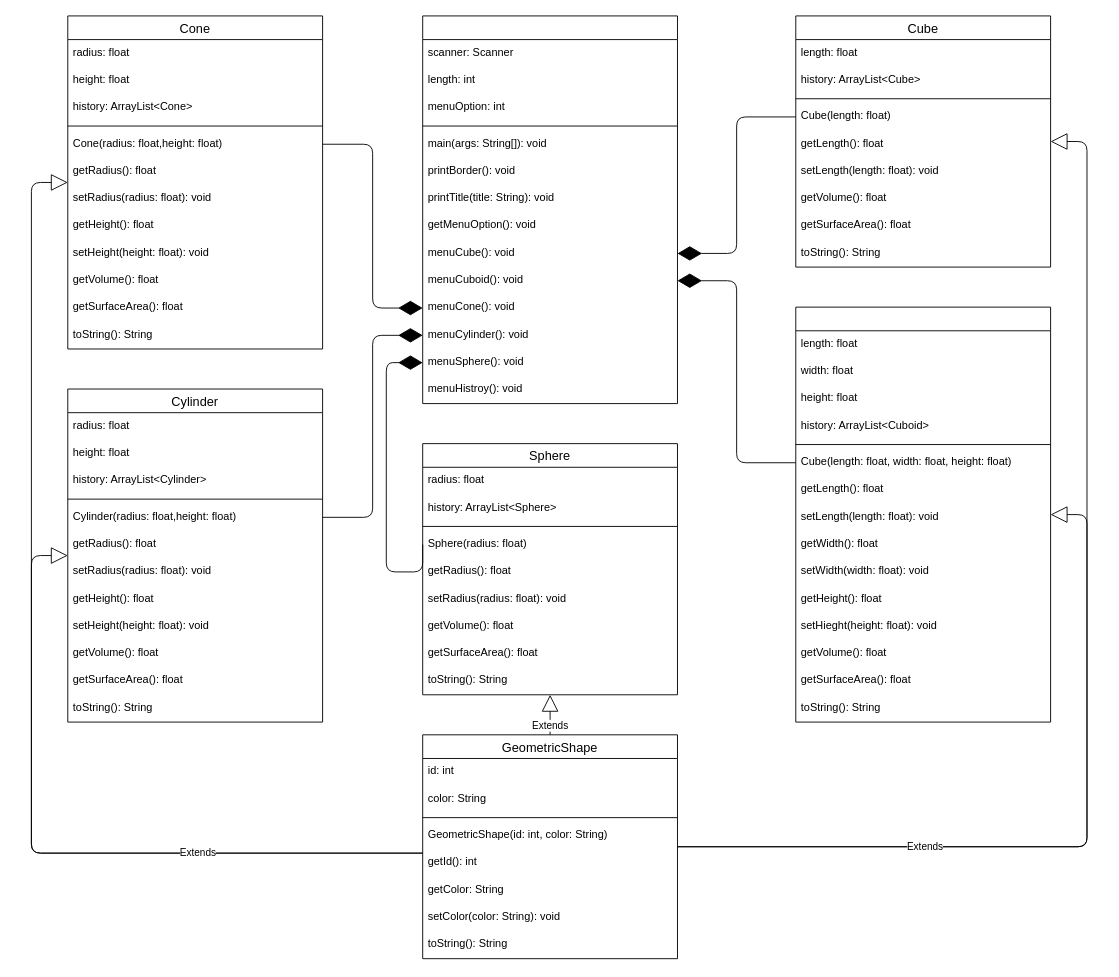
Some shapes in this 1119 by 977 pixel diagram are drawn without their labels. Here are the shapes that lost their labels. From the top down, the box of each, then its label:
(422, 15, 677, 404): App
(795, 306, 1051, 722): Cuboid
